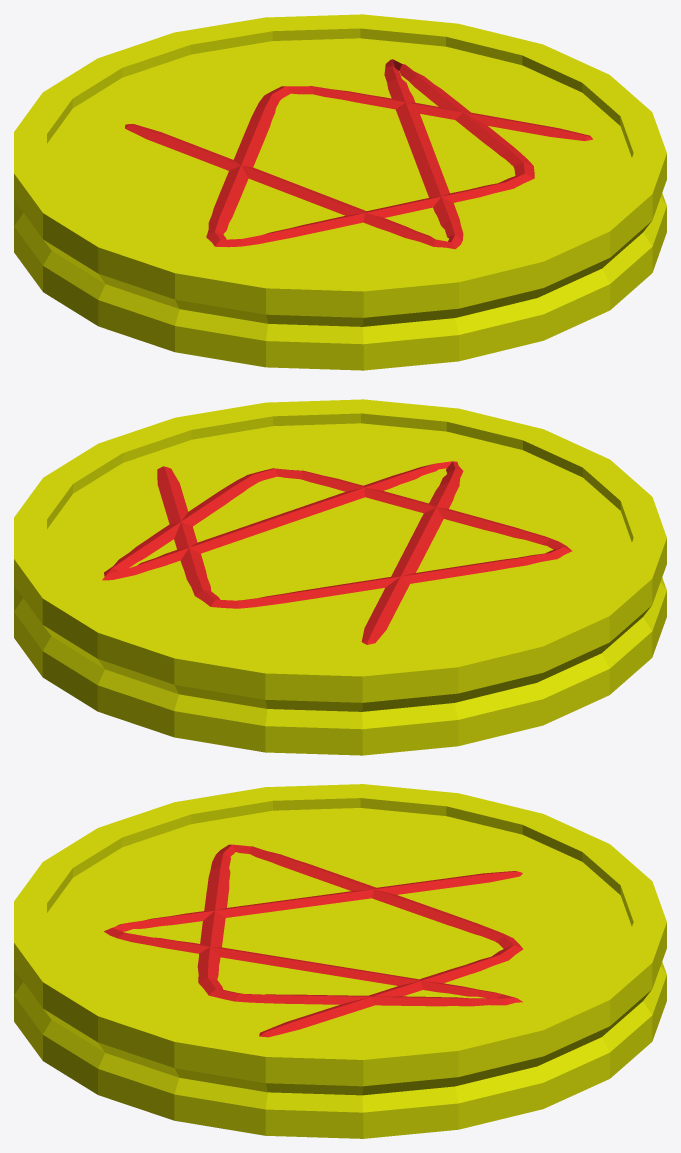
File: coin-1-1.fbx
The picture shows the model from 3 angles, top to bottom: view 1: azimuth 30°, elevation 25°; view 2: azimuth 150°, elevation 25°; view 3: azimuth 270°, elevation 25°; orthographic projection.
Parts seen in each view (by area): view 1: Plane.027; view 2: Plane.027; view 3: Plane.027.
Part boxes in pixels (<box>): Plane.027: <box>14,14,666,370</box>; Plane.027: <box>14,399,666,755</box>; Plane.027: <box>14,784,666,1138</box>.
Size of the model in its own units: 3 by 0.4 by 3.
